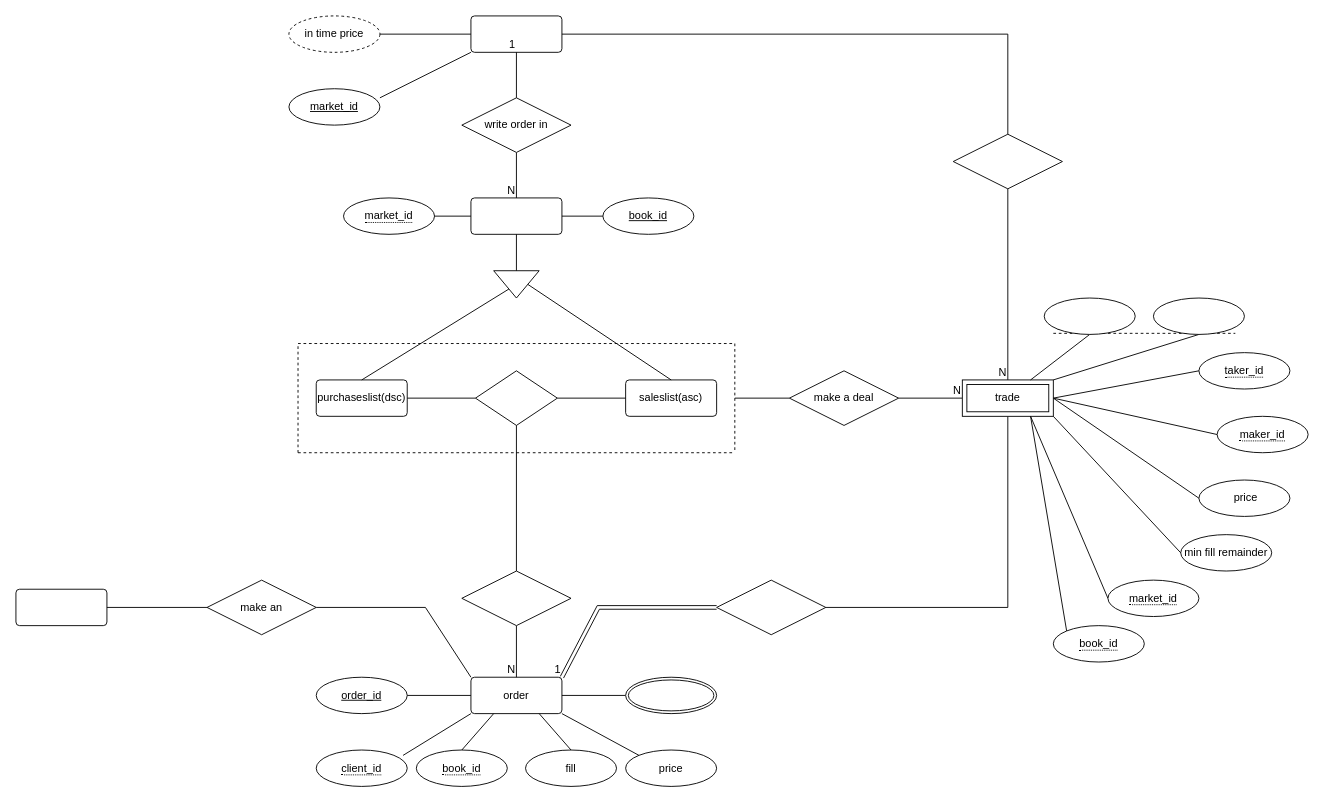
Image size: 1324x803. Some labels were removed from this diagram. Each missing label, with the centre of its shape:
change market price: point (1007, 161)
deal with: point (516, 397)
make a list of: point (516, 598)
maker_order_id: point (1198, 315)
market: point (516, 33)
orderbook: point (516, 215)
put togrther: point (771, 607)
taker_order_id: point (1089, 315)
type(sale/purc hase): point (671, 695)
user: point (61, 607)
